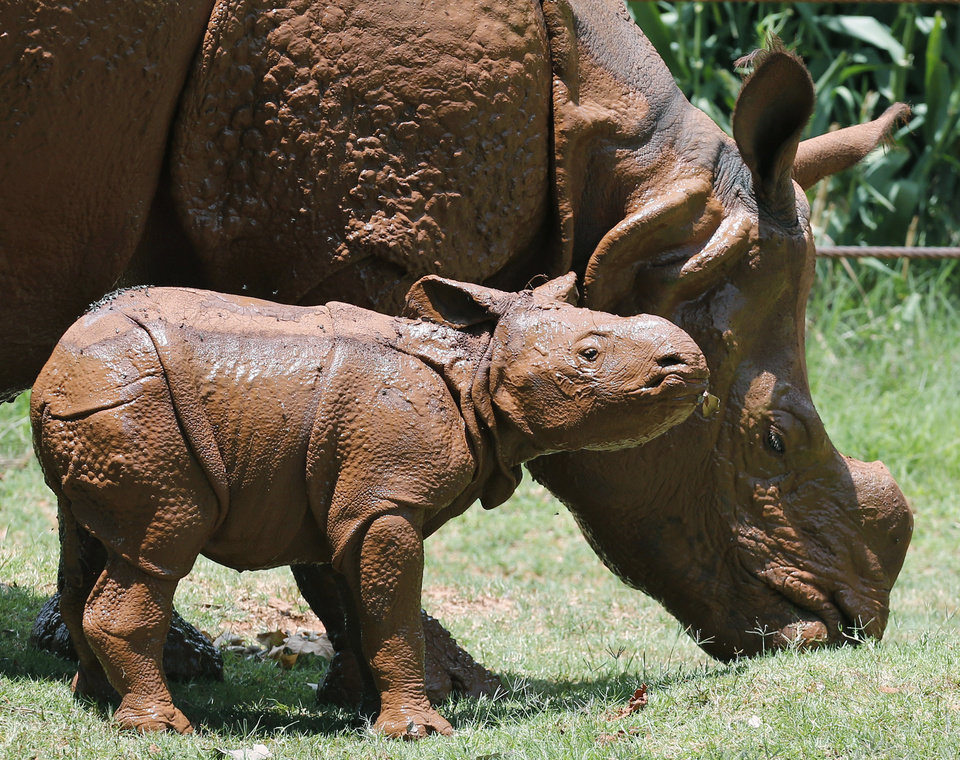rhinoceros: (1, 3, 913, 675), (28, 282, 712, 732)
